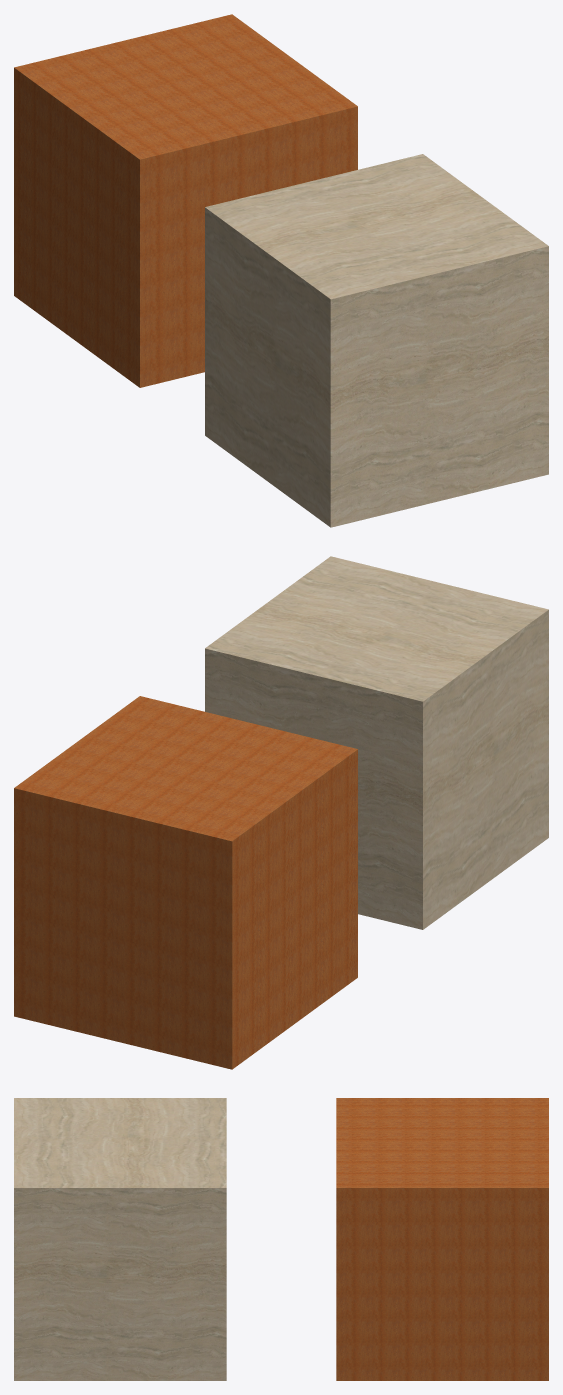
The model's file is ChessAnimalMat.glb.
3 renders of one model, top to bottom at view 1: azimuth 30°, elevation 25°; view 2: azimuth 150°, elevation 25°; view 3: azimuth 270°, elevation 25°, orthographic. The views are drawn at different scales.
Visible parts, largest first — view 1: Cube.001, Cube; view 2: Cube, Cube.001; view 3: Cube, Cube.001.
Part boxes in pixels (bbox=[...]): Cube.001: bbox=[205, 154, 548, 527]; Cube: bbox=[14, 14, 357, 387]; Cube: bbox=[14, 696, 357, 1069]; Cube.001: bbox=[205, 556, 548, 929]; Cube: bbox=[336, 1098, 548, 1380]; Cube.001: bbox=[14, 1098, 226, 1380].
Size of the model in its own units: 2 by 2 by 5.03.
2 materials, 2 textured.
